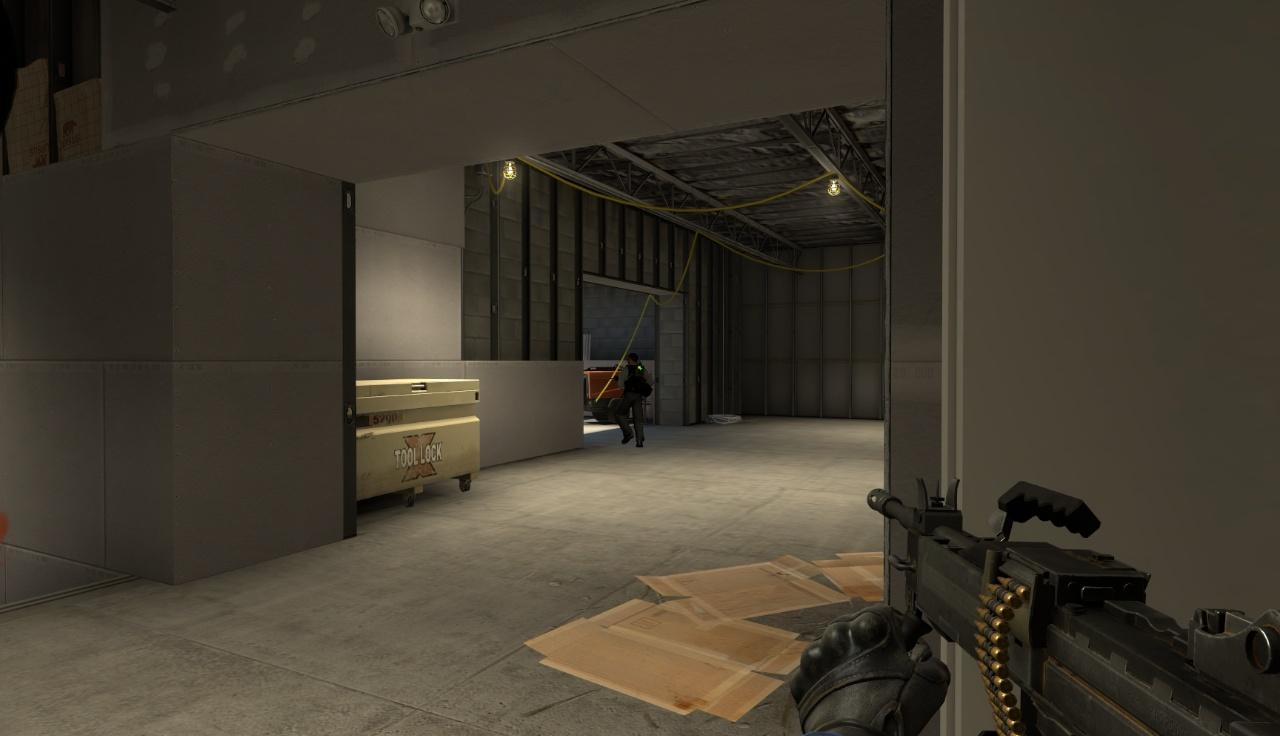rifle: (866, 478, 1280, 736)
tt: (617, 353, 652, 447)
tthead: (627, 354, 638, 366)
